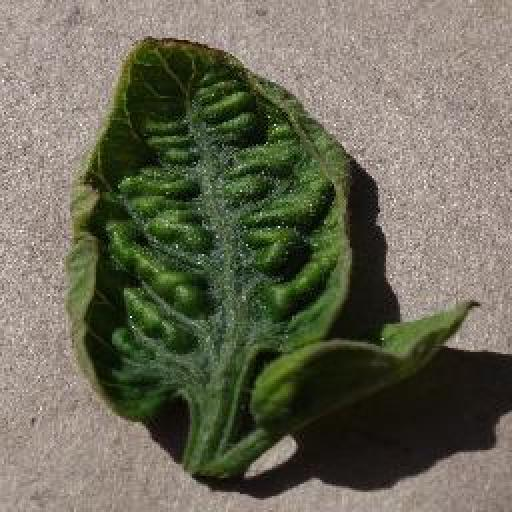disease_tomato: (62, 29, 353, 416)
